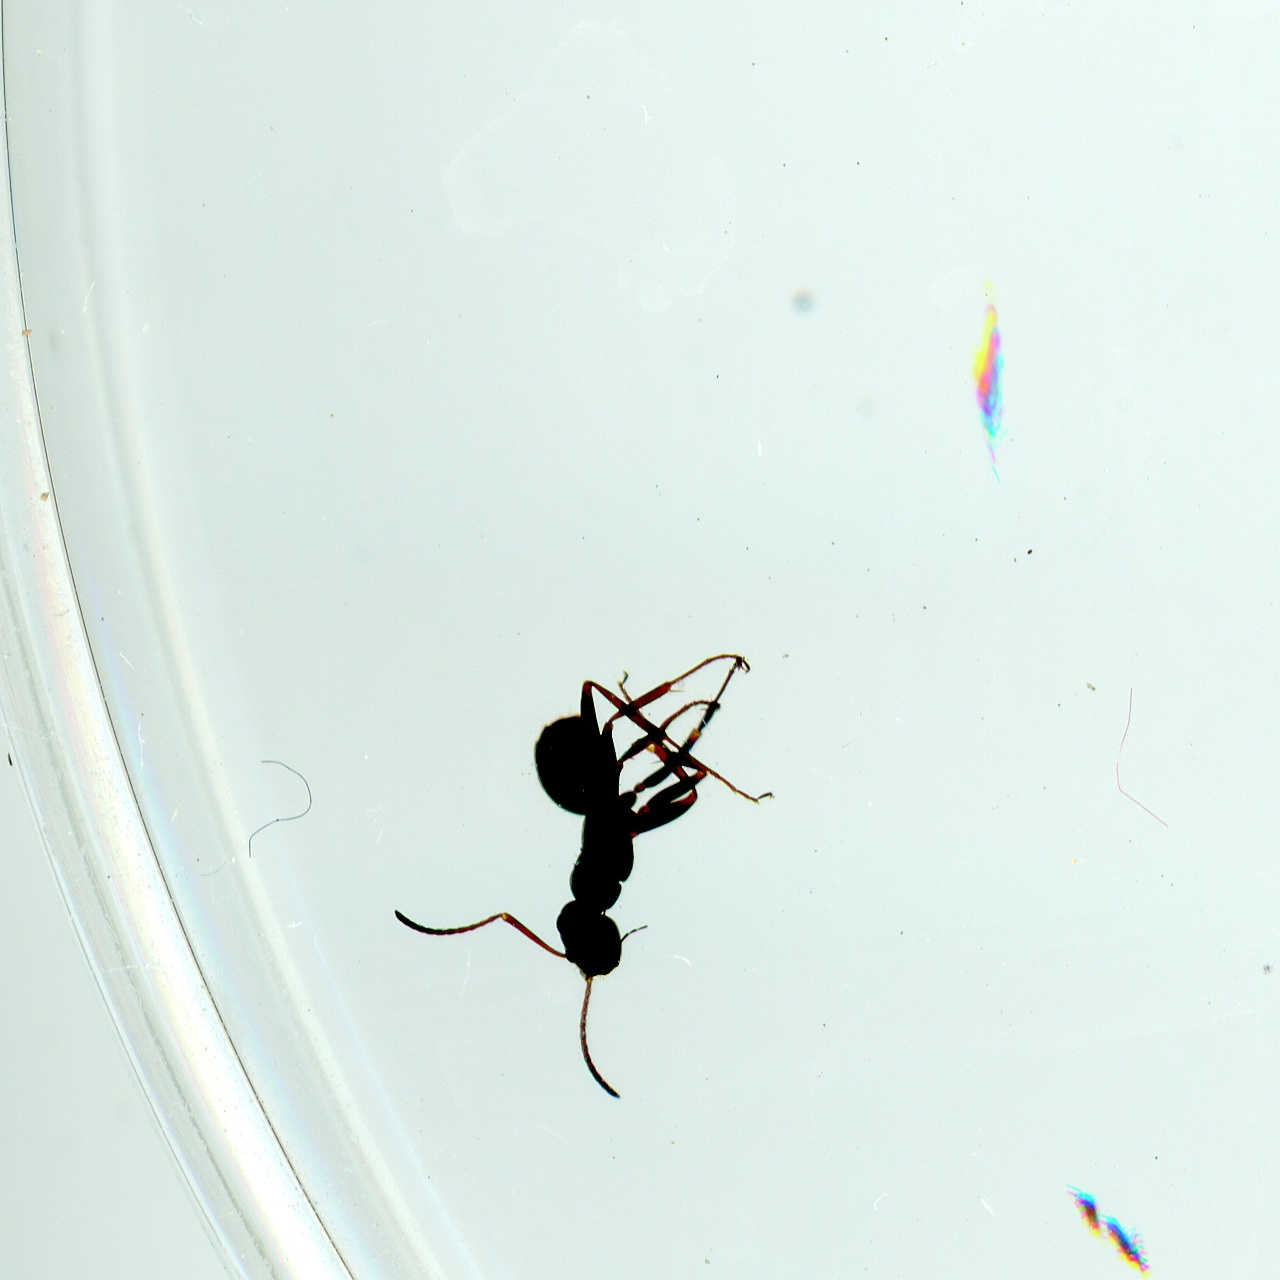arthropod: (356, 642, 794, 1117), (962, 284, 1021, 479), (1094, 1198, 1165, 1280), (1064, 1180, 1101, 1238)
